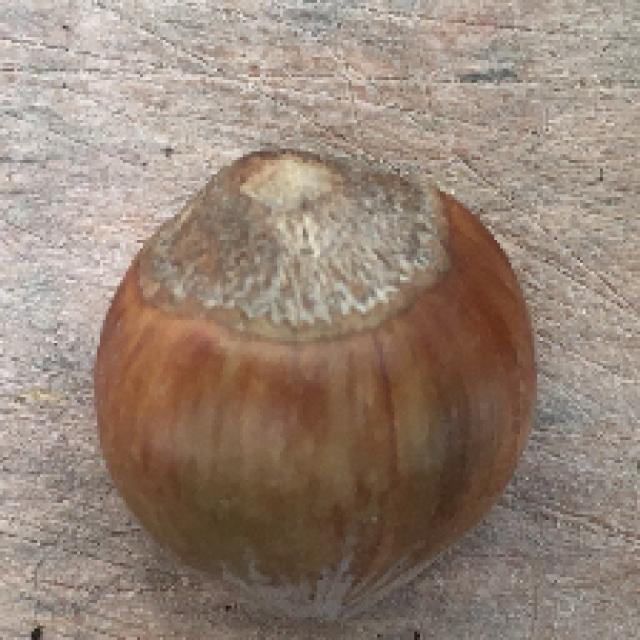damagedHazelnut: (88, 140, 546, 640)
